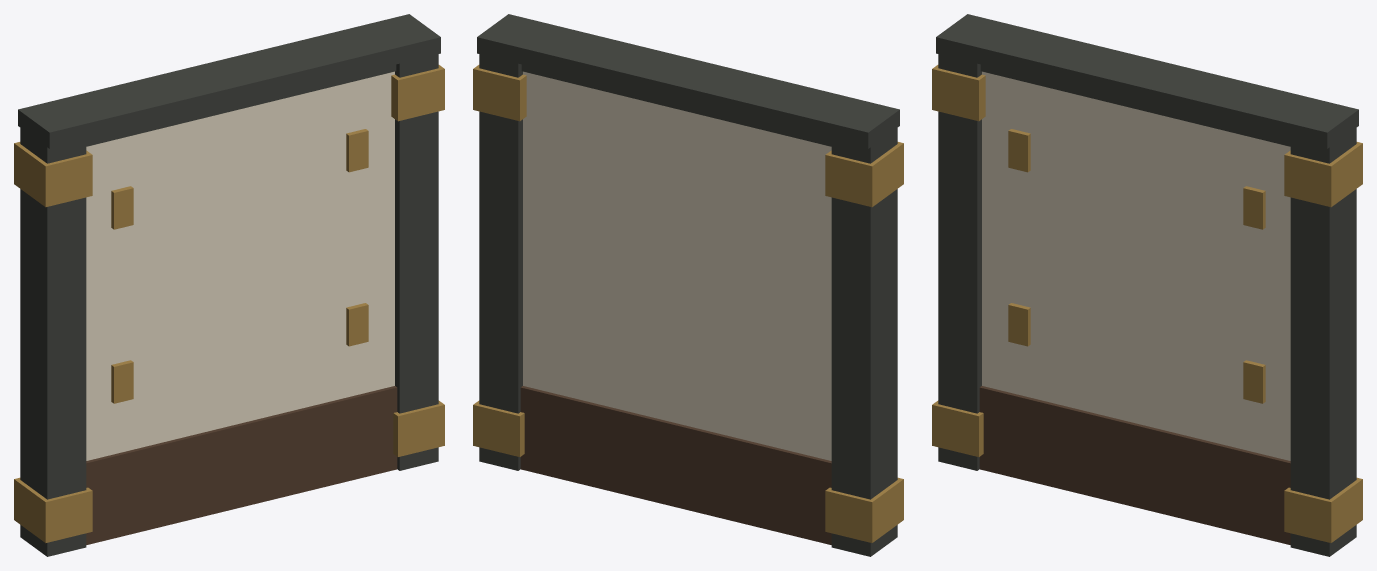
Rendered from ledge.glb.
3 renders of one model, left to right at view 1: azimuth 30°, elevation 25°; view 2: azimuth 150°, elevation 25°; view 3: azimuth 330°, elevation 25°, orthographic.
Parts seen in each view (by area): view 1: ledge; view 2: ledge; view 3: ledge.
Part boxes in pixels (x1=…): ledge: x1=14, y1=14, x2=444, y2=556; ledge: x1=473, y1=14, x2=903, y2=556; ledge: x1=932, y1=14, x2=1362, y2=556.
Bounding box in the file's own units: 2.04 × 2.08 × 0.28.
